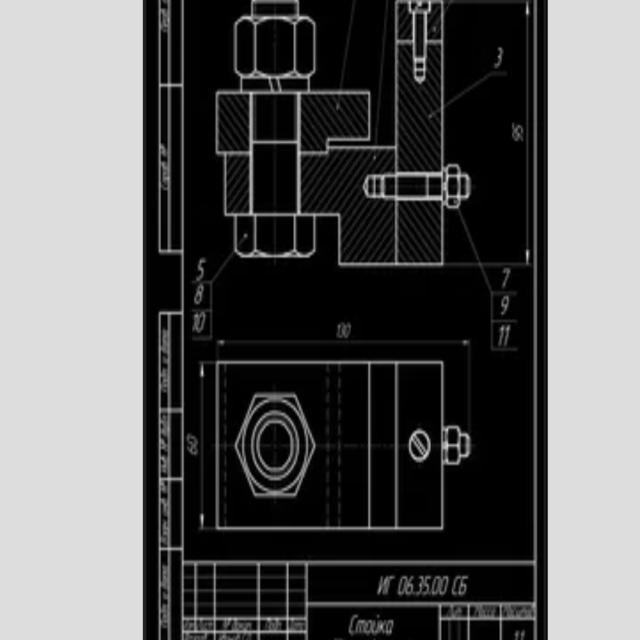marking_line: (471, 1, 529, 266), (197, 357, 214, 531)
numeric: (493, 40, 504, 71), (196, 257, 206, 282), (192, 283, 204, 303), (500, 263, 510, 286), (503, 324, 512, 346), (501, 293, 509, 316), (499, 322, 506, 346), (191, 312, 198, 334), (198, 312, 205, 332), (186, 445, 197, 455), (339, 323, 346, 338), (336, 321, 341, 337), (346, 323, 351, 339), (188, 434, 195, 444)
special_symbol: (509, 120, 524, 146)
